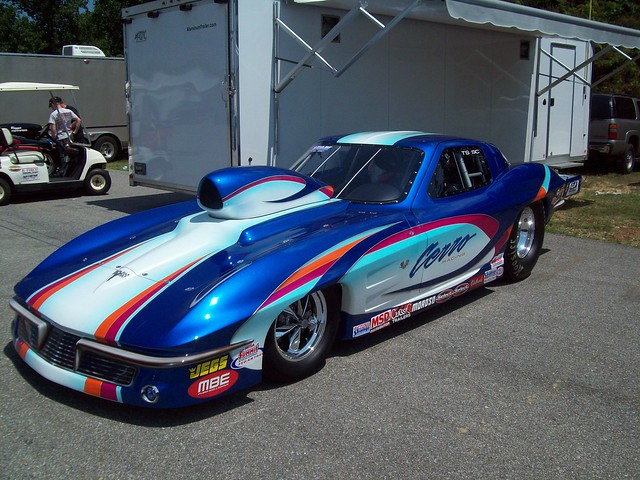Car: (14, 133, 561, 402)
